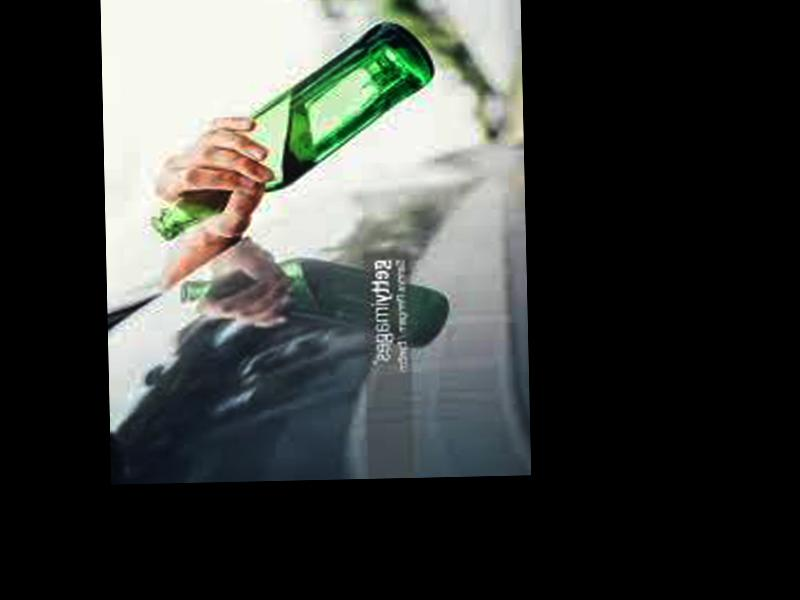Beer: (151, 21, 436, 243)
